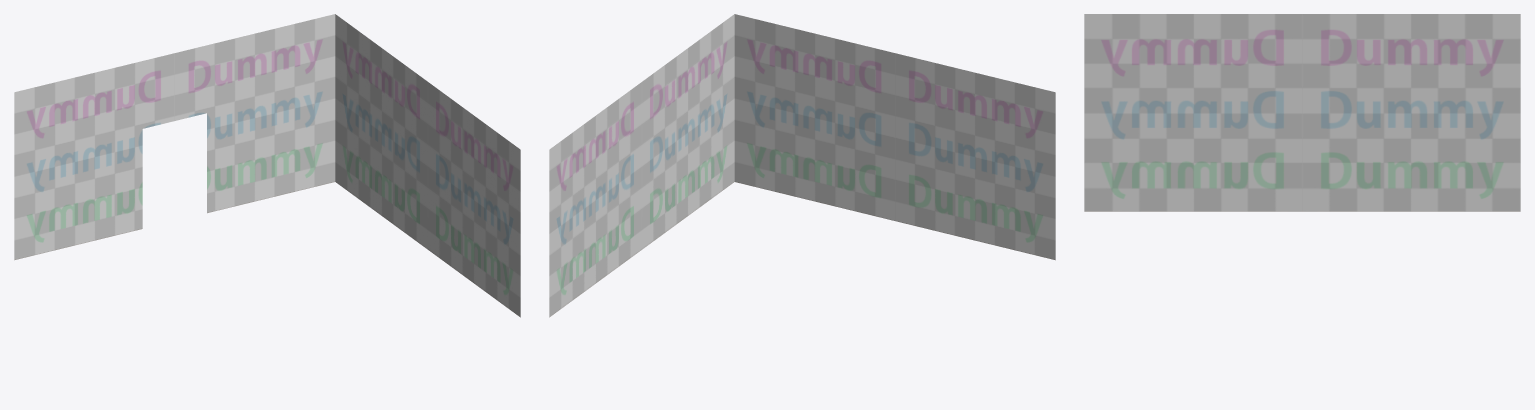
File: resource_rmmdl2.glb
3 renders of one model, left to right at view 1: azimuth 30°, elevation 25°; view 2: azimuth 150°, elevation 25°; view 3: azimuth 270°, elevation 25°, orthographic. The views are drawn at different scales.
Parts seen in each view (by area): view 1: wall; view 2: wall; view 3: wall.
Part boxes in pixels (x1,y1,x2,y2): wall: (14,14,520,317); wall: (549,14,1055,317); wall: (1084,14,1520,211).
Bounding box in the file's own units: 68 × 34 × 68.
1 material, 1 textured.
